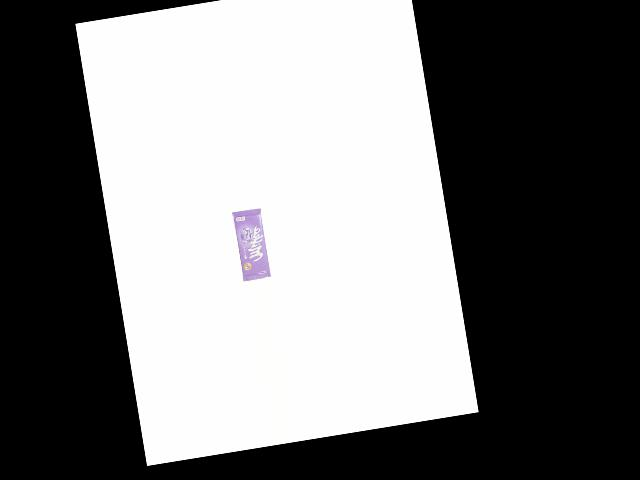chocolate: (227, 203, 273, 282)
